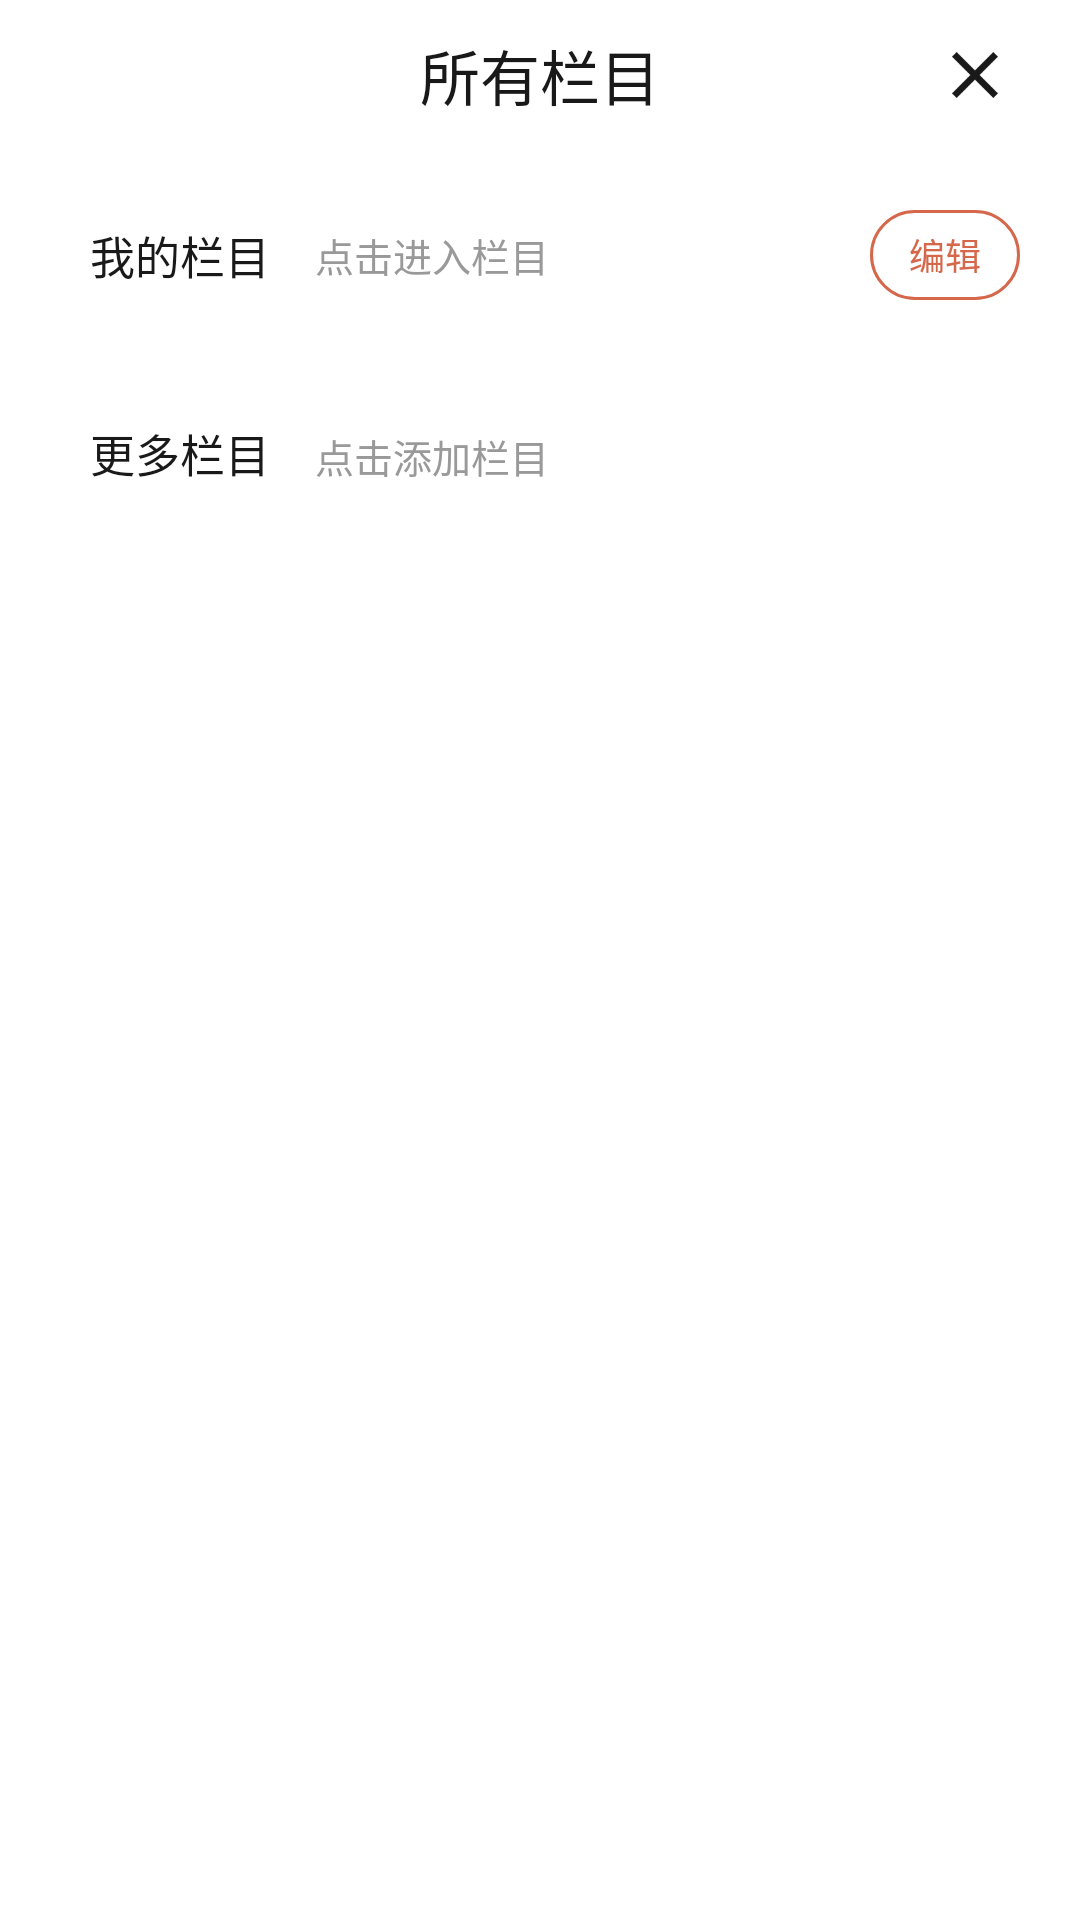

Icon click points for this 1080×1920 phone screenshot, format (x=x, y=y):
close: (x=975, y=75)
